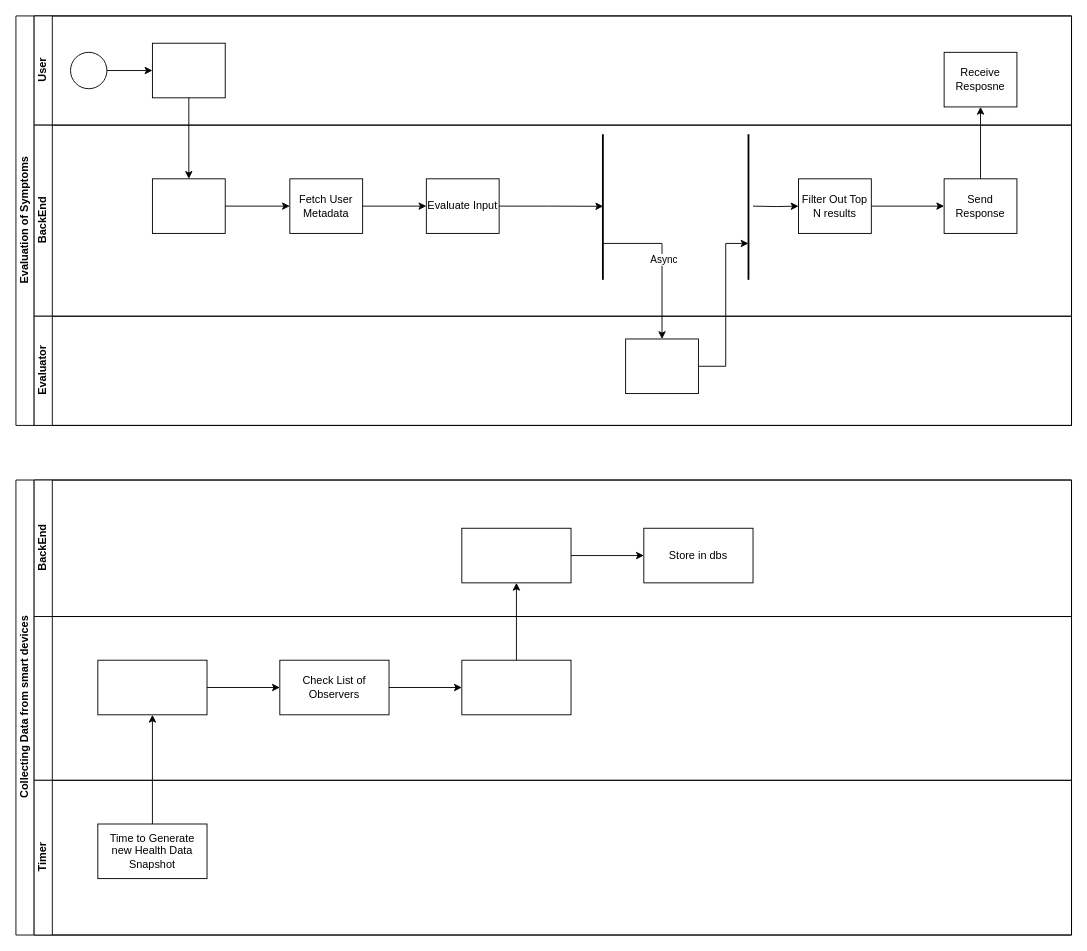
Some shapes in this 1087 by 951 pixel diagram are drawn without their labels. Here are the shapes that lost their labels. From the top down, the box of each, then its label:
(152, 42, 225, 98): Send Request for evaluation
(152, 178, 225, 233): Receive Request
(625, 338, 698, 394): Predict Diagnosis
(461, 527, 571, 583): Receive Data
(97, 659, 207, 715): Generate new Health Data Snapshot
(461, 659, 571, 715): Send Data to each receiver
(33, 616, 1072, 780): VitalSignsProvider
